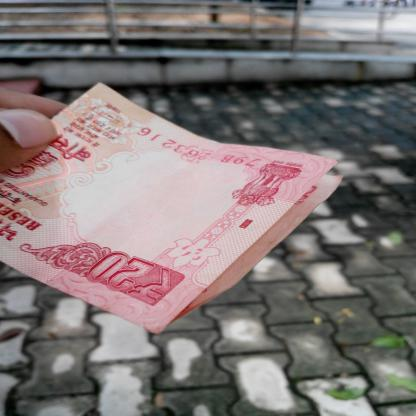Old20Front: (2, 88, 327, 324)
